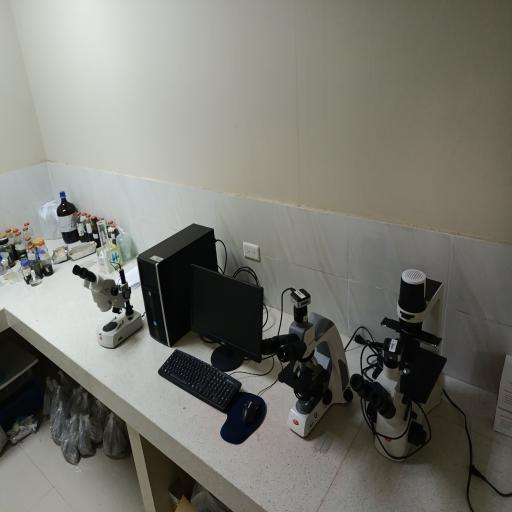Microscopio_camara: (344, 265, 460, 466), (252, 288, 366, 449)
